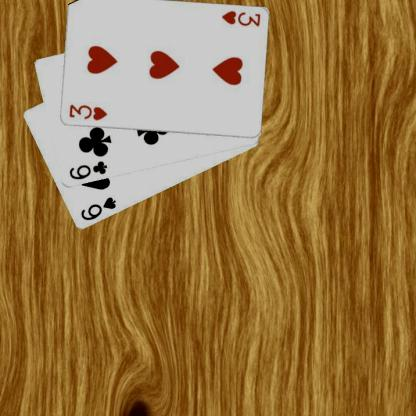3H: (66, 102, 108, 122), (219, 9, 261, 28)
6C: (66, 159, 108, 181)
6S: (78, 195, 117, 222)
